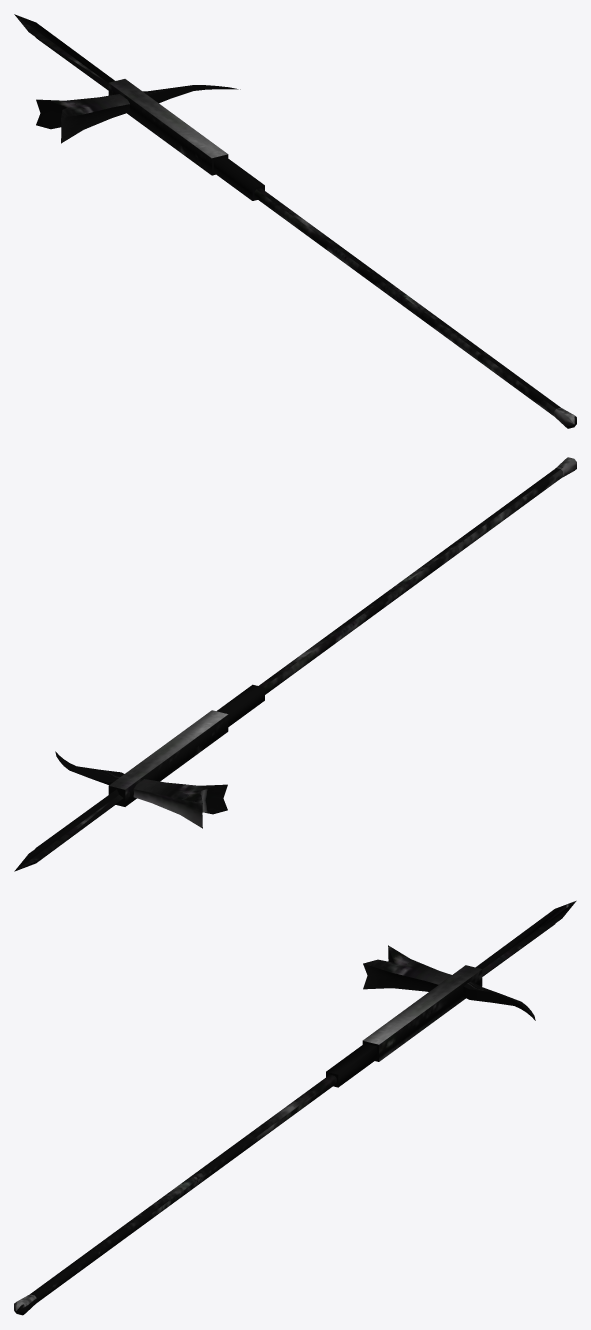
3 renders of one model, top to bottom at view 1: azimuth 30°, elevation 25°; view 2: azimuth 150°, elevation 25°; view 3: azimuth 330°, elevation 25°, orthographic.
Visible parts, largest first — view 1: mesh_0; view 2: mesh_0; view 3: mesh_0.
Boxes of the visible parts, x1,y1,x2,y2 form: mesh_0: (14, 14, 576, 428); mesh_0: (14, 457, 576, 871); mesh_0: (14, 900, 576, 1315).
Size of the model in its own units: 20.5 by 3.12 by 113.
1 material, 1 textured.
